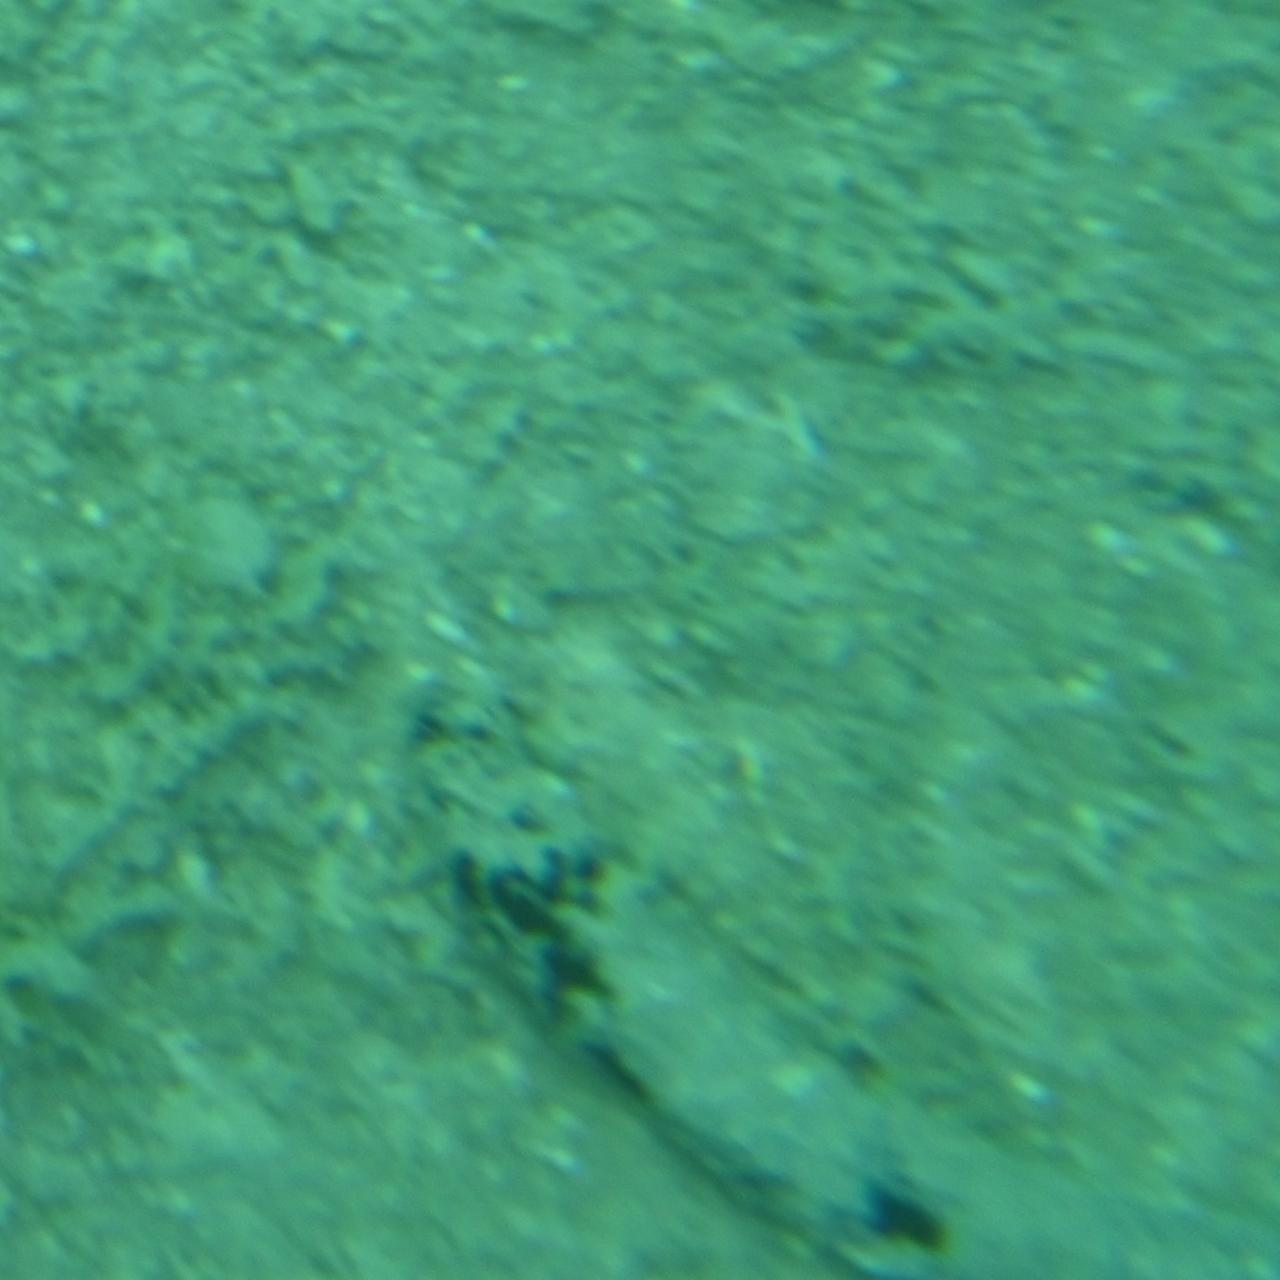Holothuria tubulosa: (392, 633, 1279, 1280)
